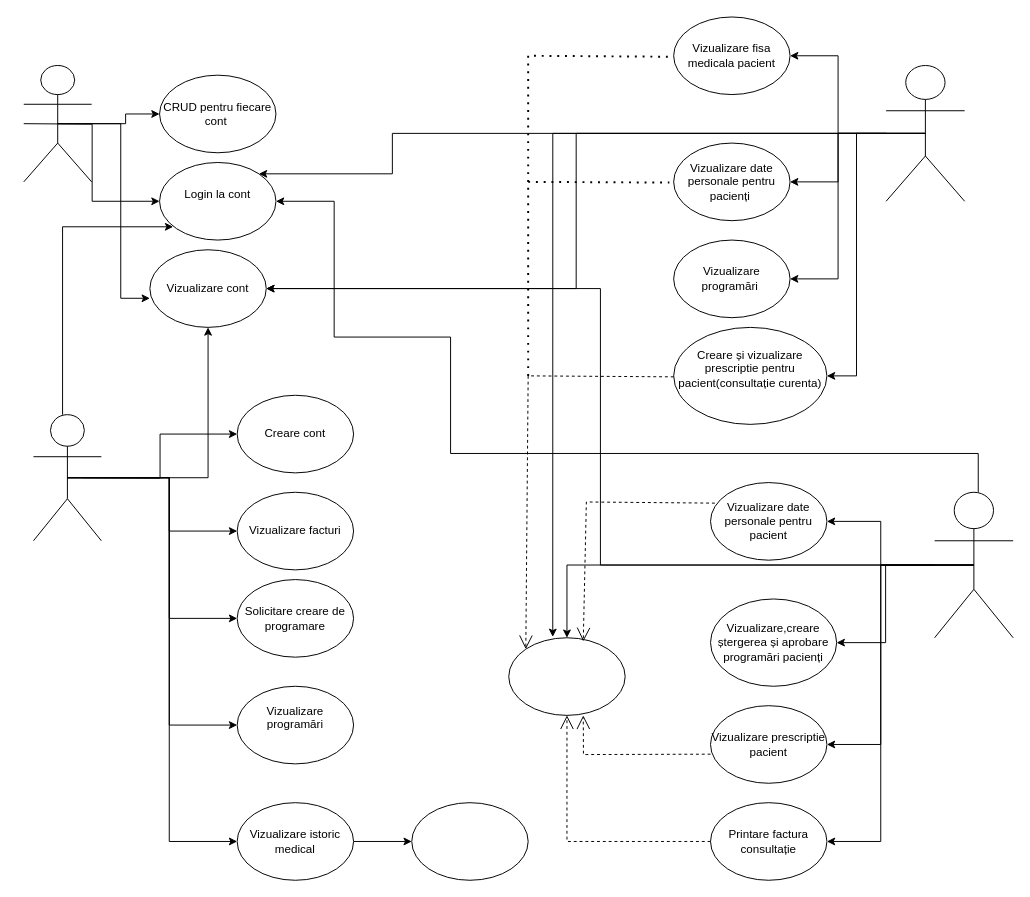
Some shapes in this 1030 by 897 pixel diagram are drawn without their labels. The centre of each missing label's shape, as x and y in pixels:
Administrator: pixel 57 123
Asistent: pixel 973 564
Doctor: pixel 925 133
Pacient: pixel 66 477
Rezultate consultatii: pixel 469 841
Vizualizare lista pacienti: pixel 566 676
